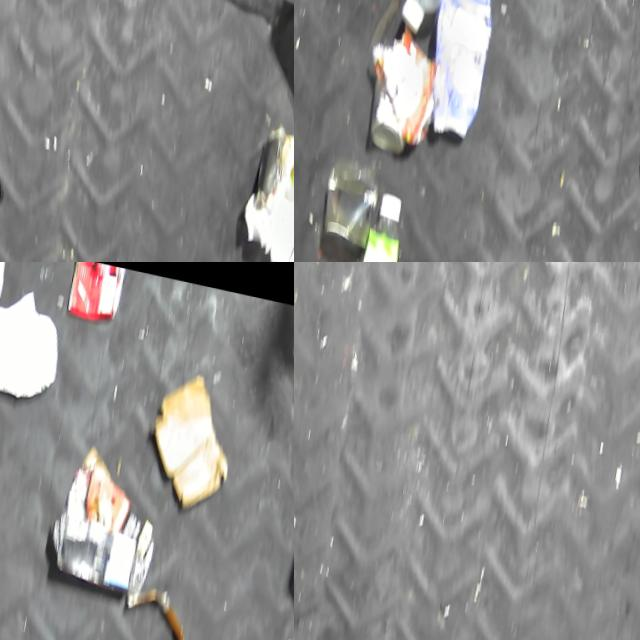can: (358, 31, 429, 154), (309, 151, 383, 251), (246, 116, 294, 200)
milk_jug: (413, 0, 503, 142), (393, 0, 497, 39)
non_white_jug: (36, 437, 169, 603), (64, 262, 127, 323)
